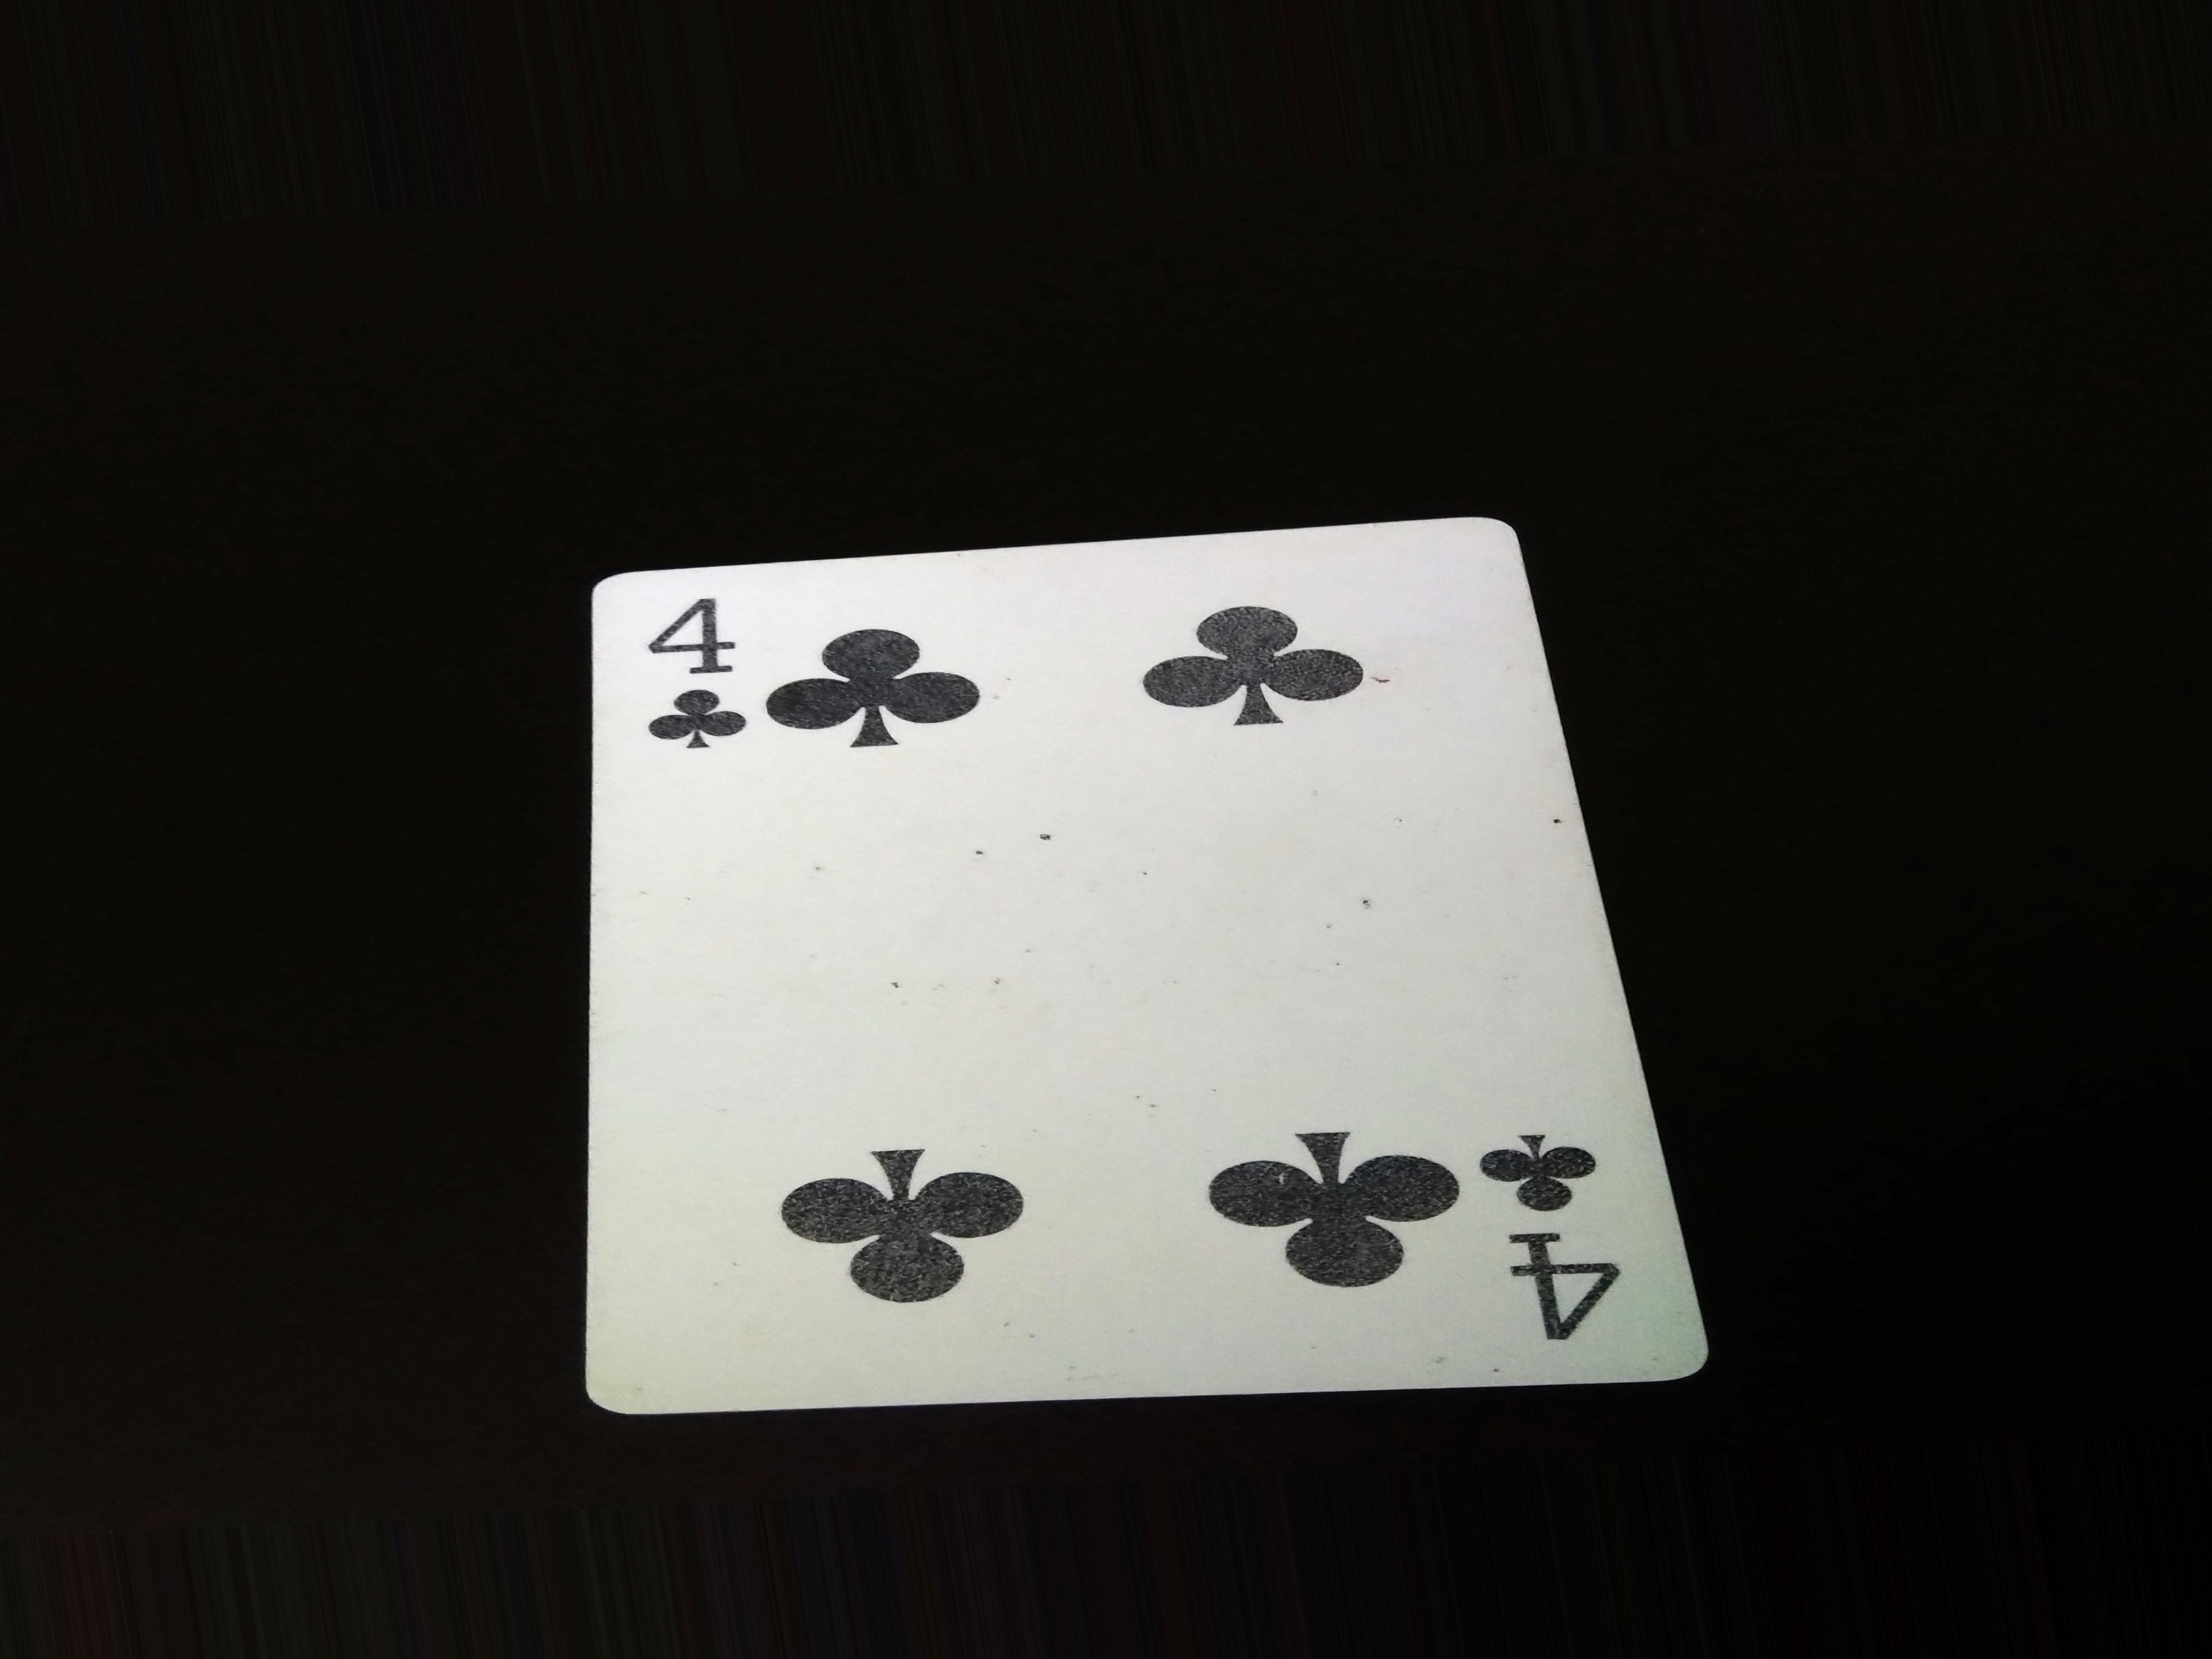4C: (643, 584, 759, 788)
